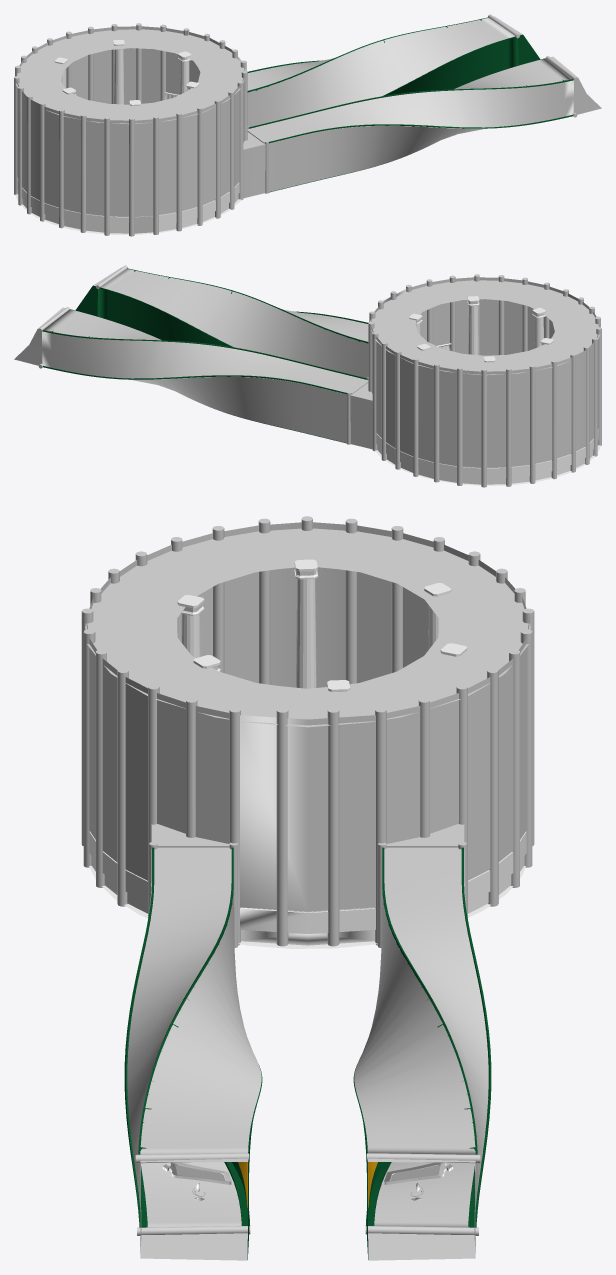
Rendered from SM_ArchitectureFixed.fbx.
3 renders of one model, top to bottom at view 1: azimuth 30°, elevation 25°; view 2: azimuth 150°, elevation 25°; view 3: azimuth 270°, elevation 25°, orthographic. The views are drawn at different scales.
Parts seen in each view (by area): view 1: polySurface1726.001; view 2: polySurface1726.001; view 3: polySurface1726.001.
Boxes of the visible parts, <box> form: polySurface1726.001: <box>14,14,601,236</box>; polySurface1726.001: <box>14,265,601,487</box>; polySurface1726.001: <box>81,516,534,1260</box>.
Size of the model in its own units: 454623 by 101556 by 166857.
